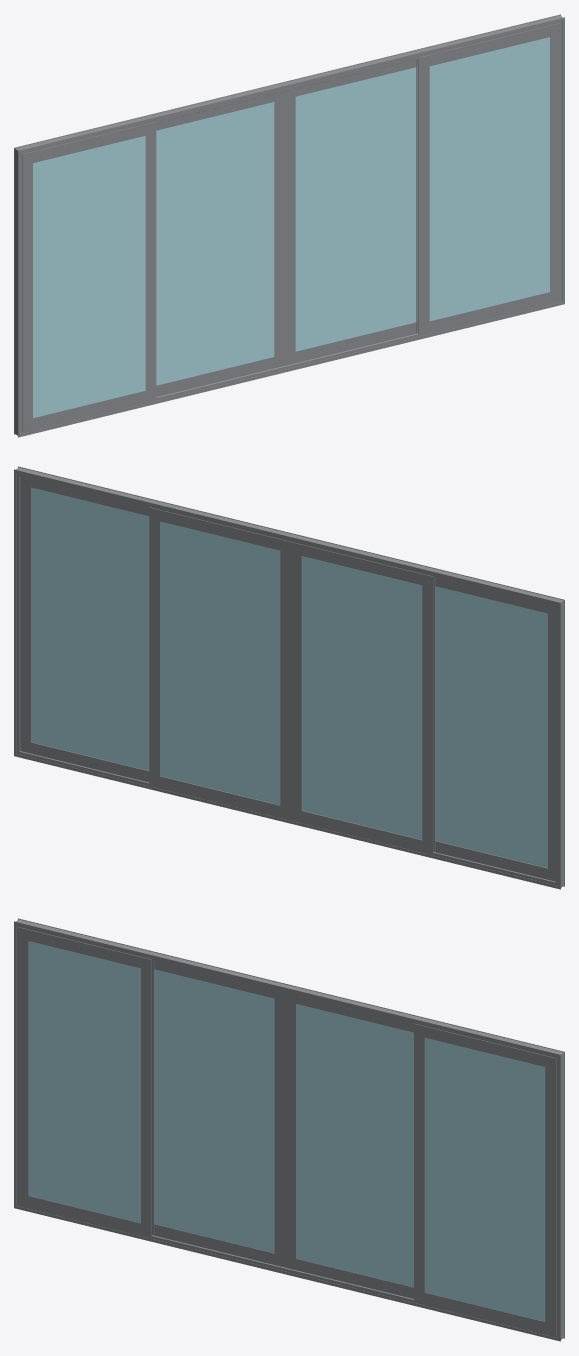
The picture shows the model from 3 angles, top to bottom: view 1: azimuth 30°, elevation 25°; view 2: azimuth 150°, elevation 25°; view 3: azimuth 330°, elevation 25°; orthographic projection.
Parts seen in each view (by area): view 1: group_3, group_7, group_9, group_1, group_8.005, group_2.005, group_5.002, group_4.005, group_6.005, group_5.003, group_5.013, group_5.012 (+1 smaller); view 2: group_3, group_9, group_7, group_1, group_6.004, group_4.004, group_5.012, group_8.004, group_5.011, group_2.004, group_5.013, group_5.002 (+3 smaller); view 3: group_7, group_9, group_3, group_1, group_8.005, group_2.005, group_6.005, group_5.002, group_4.005, group_5.003, group_5.013, group_5.012 (+1 smaller).
Part boxes in pixels (x1,y1,x2,y2): group_3: (295, 67, 416, 351); group_7: (429, 37, 549, 321); group_9: (156, 102, 274, 385); group_1: (33, 136, 145, 417); group_8.005: (418, 23, 560, 335); group_2.005: (22, 121, 156, 431); group_5.002: (18, 17, 564, 437); group_4.005: (285, 59, 416, 365); group_6.005: (156, 91, 284, 396); group_5.003: (21, 21, 562, 433); group_5.013: (14, 15, 562, 435); group_5.012: (14, 14, 560, 434); group_3: (160, 521, 280, 805); group_9: (302, 556, 422, 839); group_7: (31, 487, 149, 770); group_1: (436, 586, 547, 867); group_6.004: (291, 542, 433, 853); group_4.004: (149, 507, 290, 819); group_5.012: (14, 469, 560, 889); group_8.004: (20, 476, 149, 782); group_5.011: (16, 473, 557, 885); group_2.004: (435, 578, 555, 881); group_5.013: (16, 467, 564, 887); group_5.002: (18, 466, 564, 886); group_7: (425, 1037, 545, 1321); group_9: (154, 969, 274, 1253); group_3: (296, 1004, 413, 1287); group_1: (28, 941, 140, 1223); group_8.005: (414, 1023, 556, 1335); group_2.005: (17, 927, 151, 1237); group_6.005: (154, 961, 285, 1267); group_5.002: (14, 921, 560, 1341); group_4.005: (285, 993, 413, 1298); group_5.003: (16, 925, 557, 1337); group_5.013: (16, 919, 564, 1339); group_5.012: (18, 918, 564, 1338).
Size of the model in its own units: 3.3 by 0.052 by 1.65.
